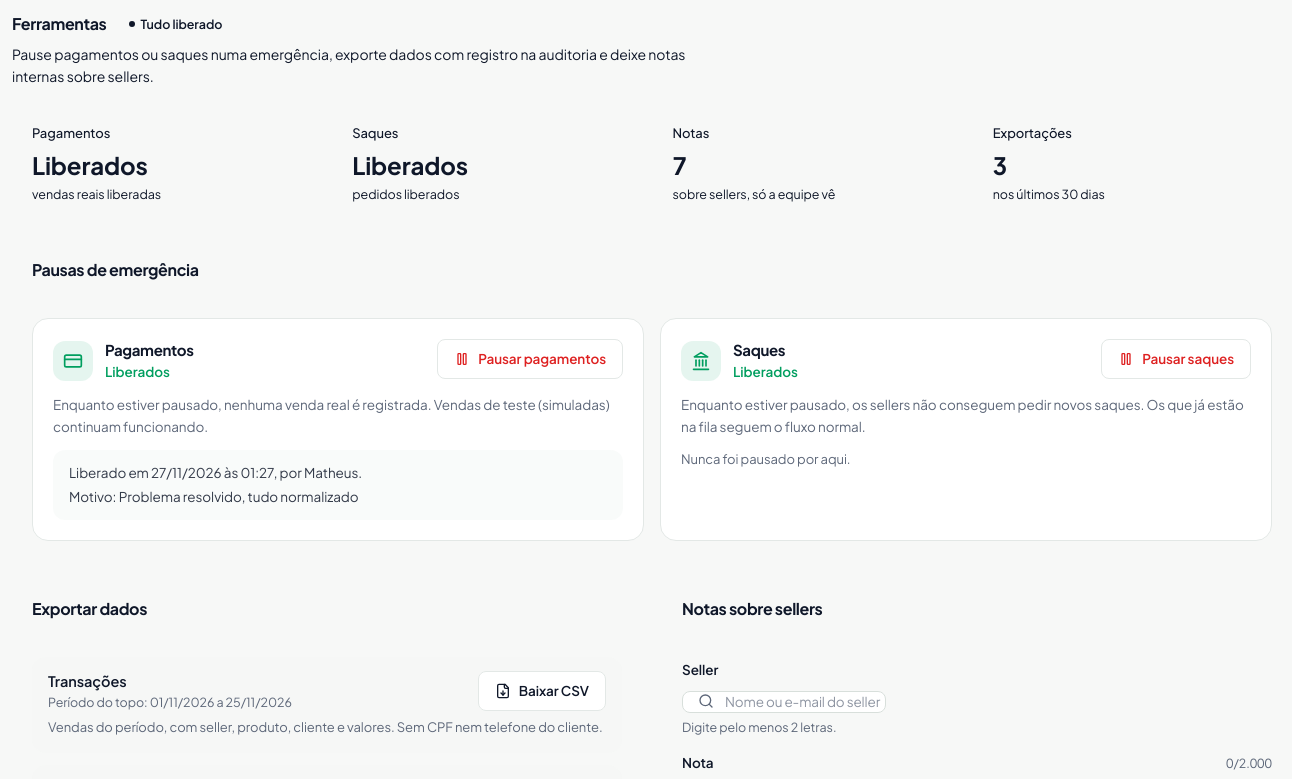
exportação de dados › erro do servidor (senha expirada, por exemplo) aparece no cartão e nenhum arquivo é baixado
Expected: the element "Pagamentos" is shown, [32, 318, 644, 541]
Click the button with aria-label "Baixar CSV de transações".
click(542, 691)  # box [478, 671, 606, 711]
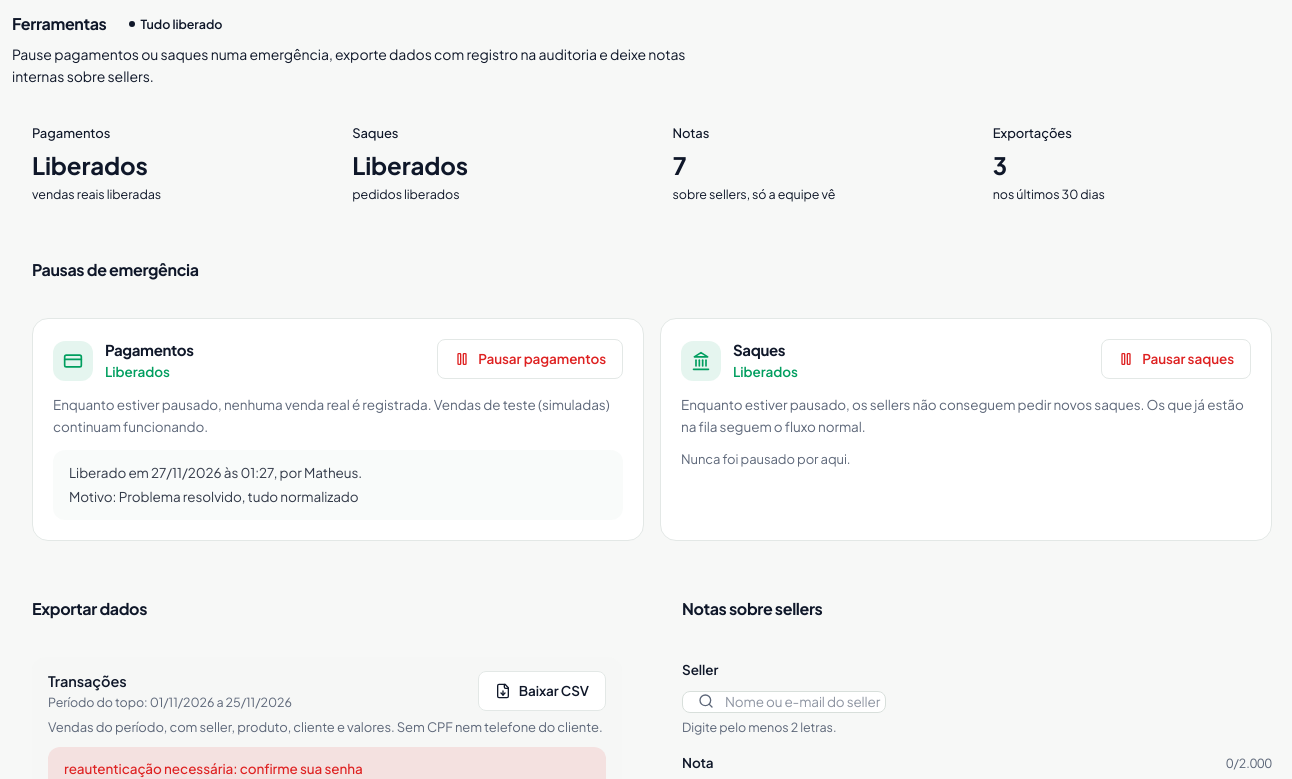
Expected: the message shows "reautenticação necessária", [64, 760, 363, 776]
